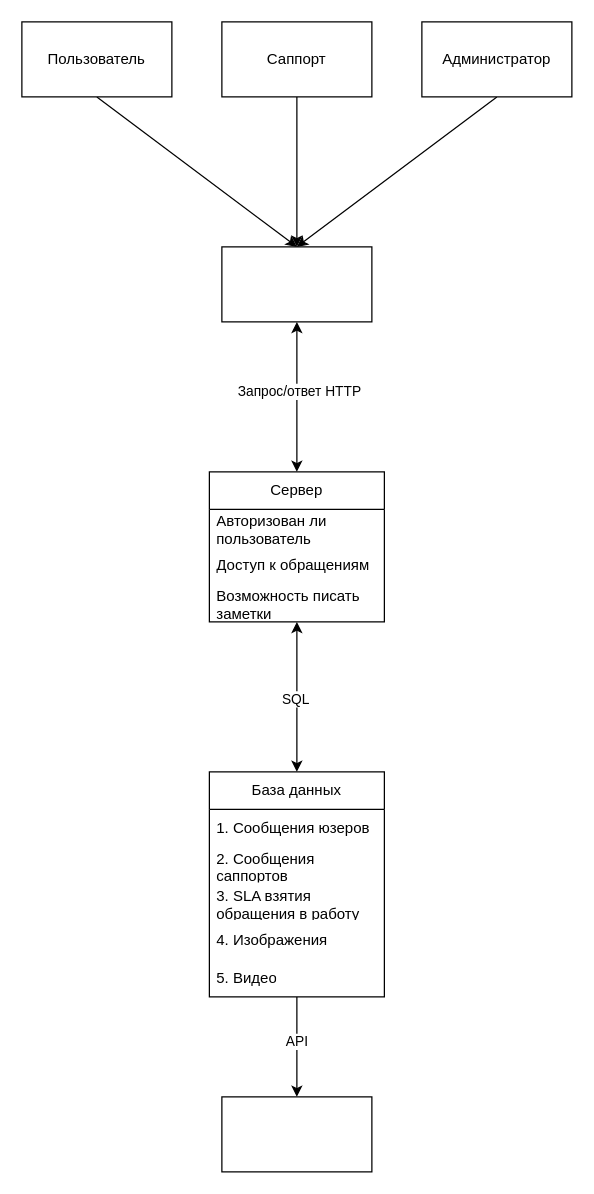
The diagram is 594 pixels wide and 1194 high, and some of its shapes have lost their labels. Each missing label, with the centre of its shape:
Внешние системы: почтовые отбивки о статусе обращения: (296,1134)
Клиент: Браузер/мобильное приложение: (296,284)
